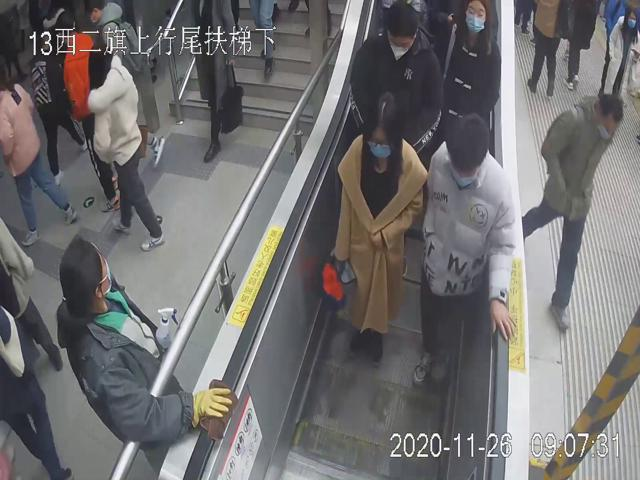person: (56, 234, 232, 446), (328, 88, 427, 366), (414, 112, 515, 382), (522, 88, 622, 333), (84, 37, 164, 252), (348, 0, 443, 156), (437, 0, 501, 151)
